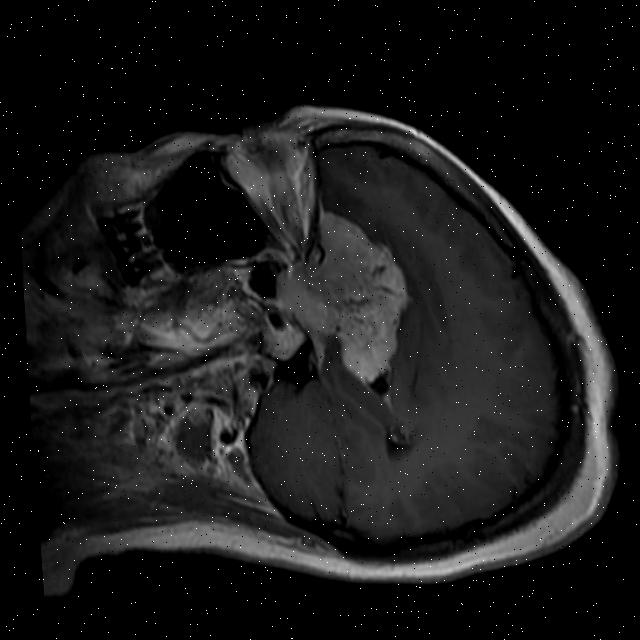Meningioma: (271, 207, 415, 389)
